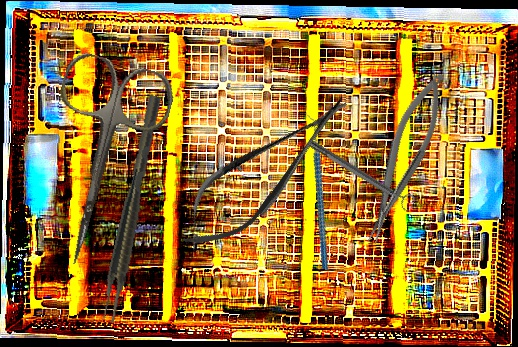Chopper: (265, 112, 367, 271)
Fixation Ring: (304, 133, 418, 214)
Iris Scissors: (18, 49, 179, 278)
Micro Scissor: (162, 78, 368, 266)
Needle Holder: (349, 66, 459, 248)
Tissue Forceps: (97, 94, 169, 324)
